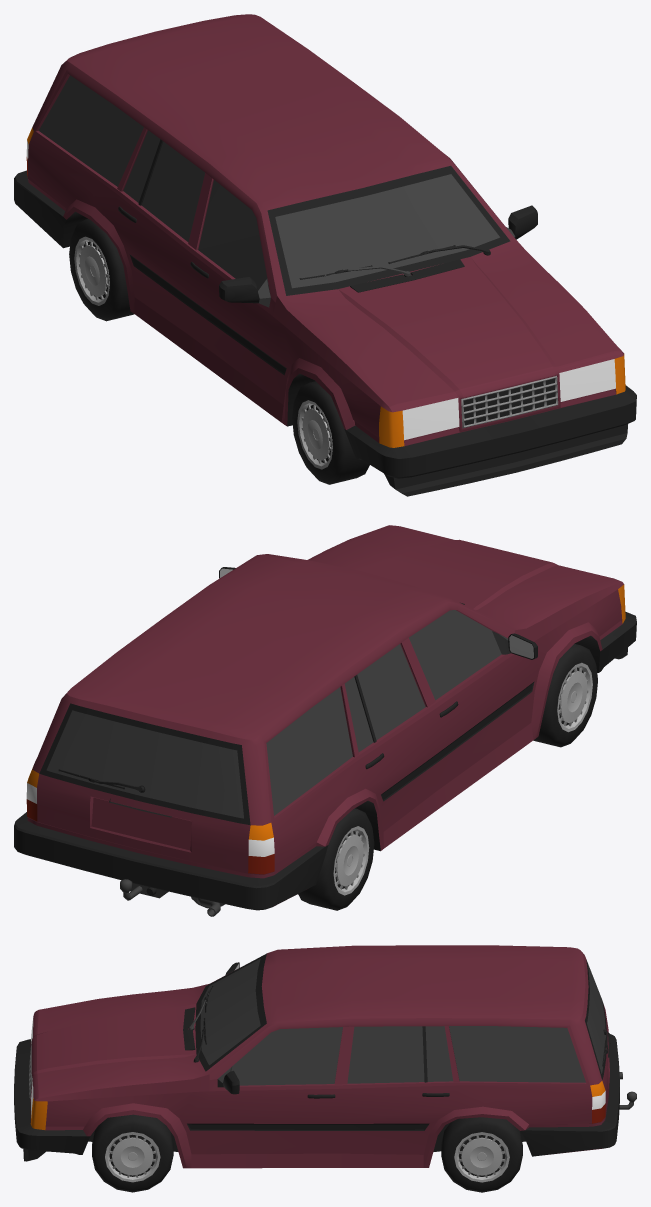
Rendered from car6.fbx.
The picture shows the model from 3 angles, top to bottom: view 1: azimuth 30°, elevation 25°; view 2: azimuth 150°, elevation 25°; view 3: azimuth 270°, elevation 25°; orthographic projection. The views are drawn at different scales.
Parts seen in each view (by area): view 1: 3.002; view 2: 3.002; view 3: 3.002.
Part boxes in pixels (<box>): 3.002: <box>14,14,636,496</box>; 3.002: <box>14,525,636,916</box>; 3.002: <box>14,945,636,1192</box>.
Size of the model in its own units: 213 by 136 by 464.
Materials: 1 (1 with a texture image).
